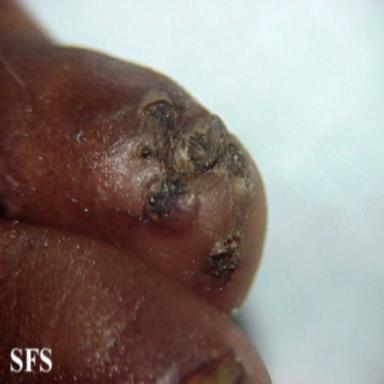Tungiasis: (138, 97, 252, 224), (205, 224, 243, 284)
